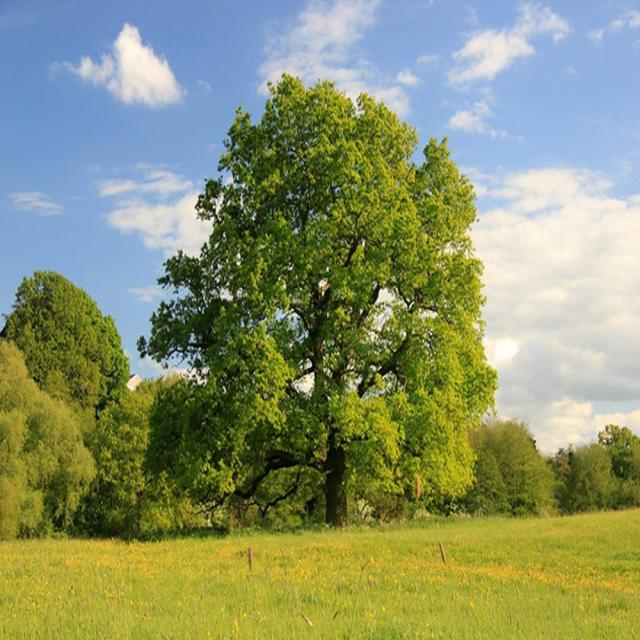Tree: (133, 62, 501, 538)
